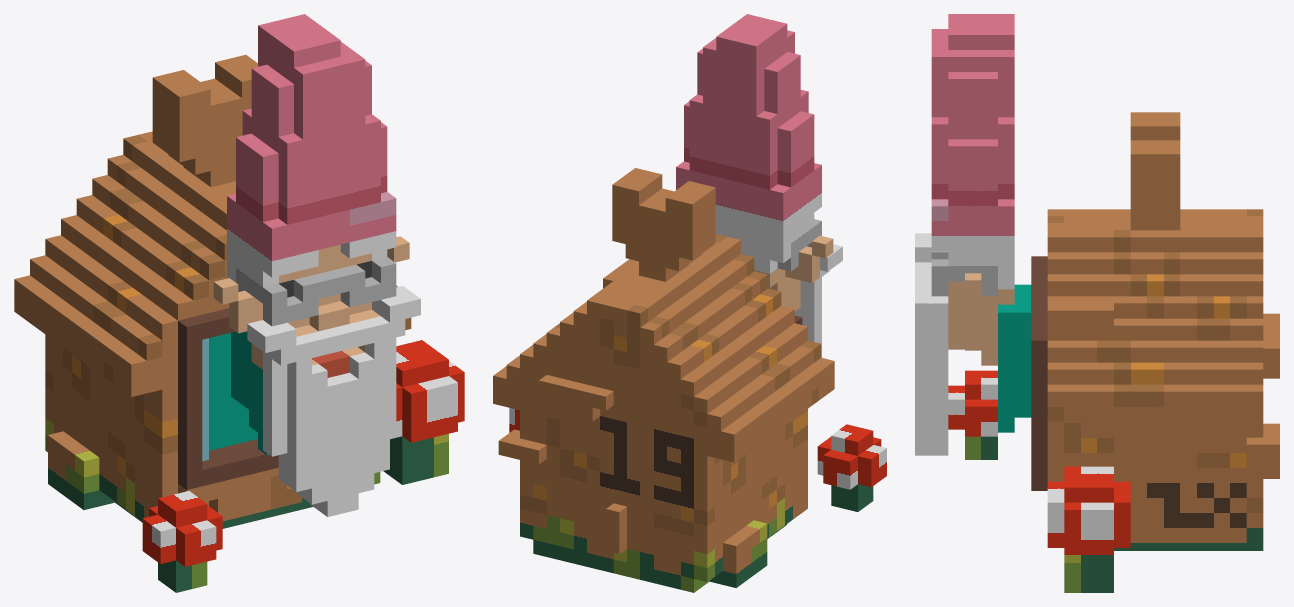
The model's file is HOME#19_GLB.glb.
3 renders of one model, left to right at view 1: azimuth 30°, elevation 25°; view 2: azimuth 150°, elevation 25°; view 3: azimuth 270°, elevation 25°, orthographic. The views are drawn at different scales.
Visible parts, largest first — view 1: Node-Local; view 2: Node-Local; view 3: Node-Local.
Part boxes in pixels (x1,y1,x2,y2): Node-Local: (14, 14, 464, 592); Node-Local: (493, 14, 886, 592); Node-Local: (915, 14, 1279, 592).
Bounding box in the file's own units: 23 × 32 × 22.
Materials: 1 (1 with a texture image).
